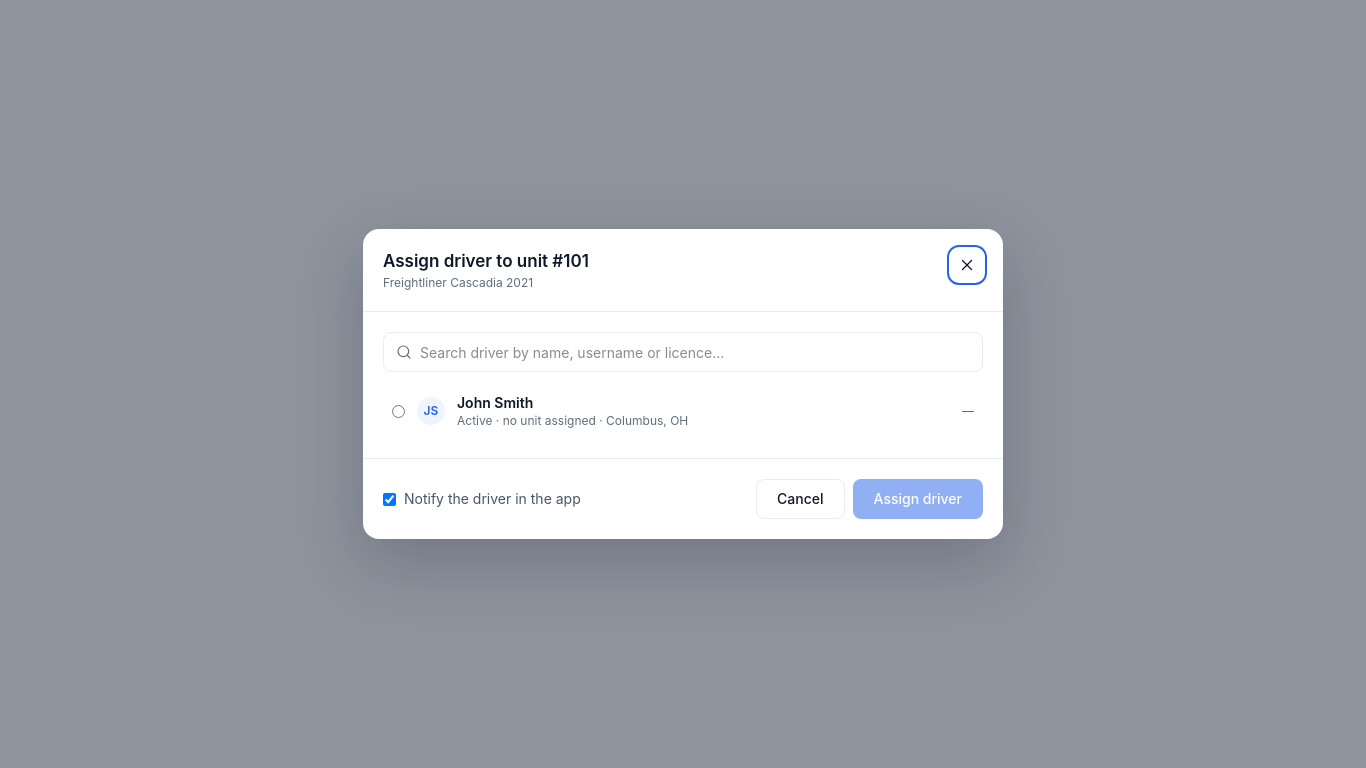
AssignDriverModal — refusals › 404 on a deleted driver says so
Click the text "John Smith" at (495, 402), box [457,394,533,411]
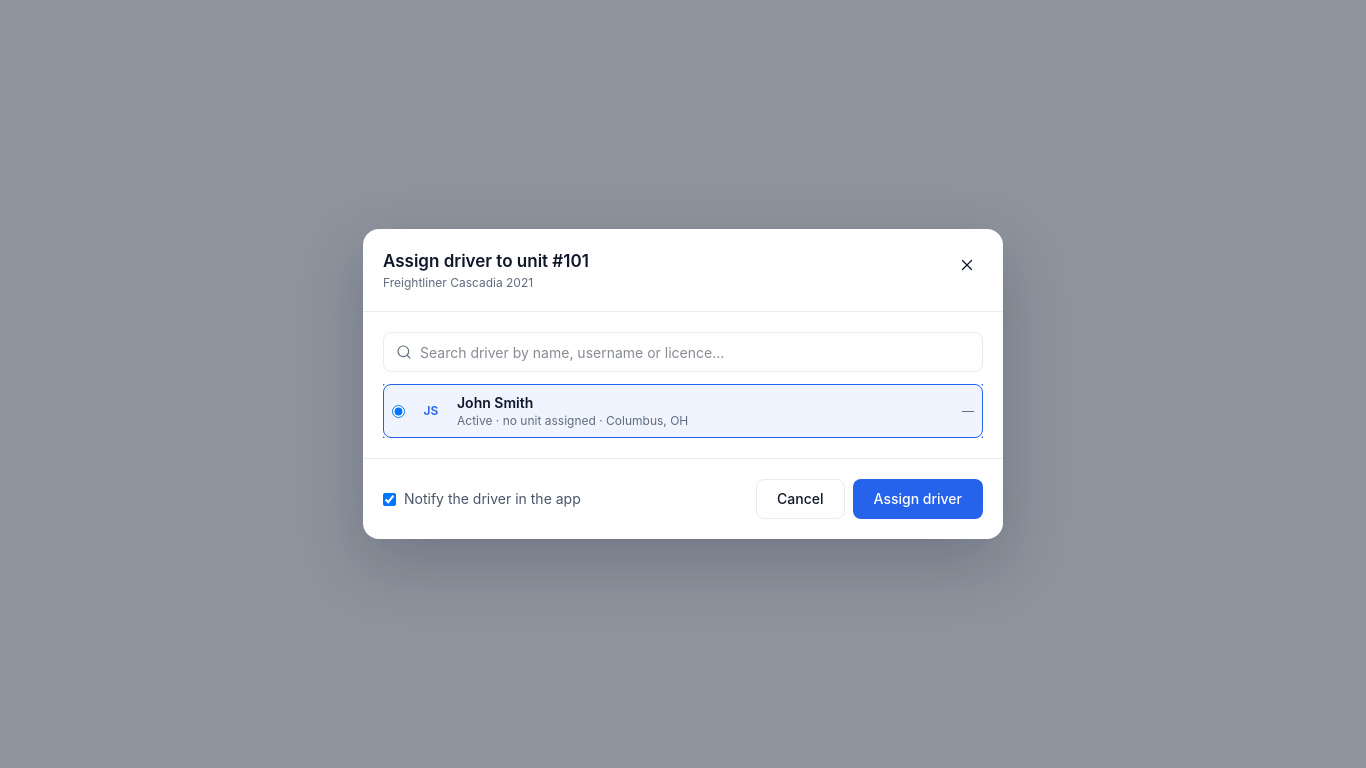
Click the button "Assign driver" at (918, 499), box [853,479,983,519]
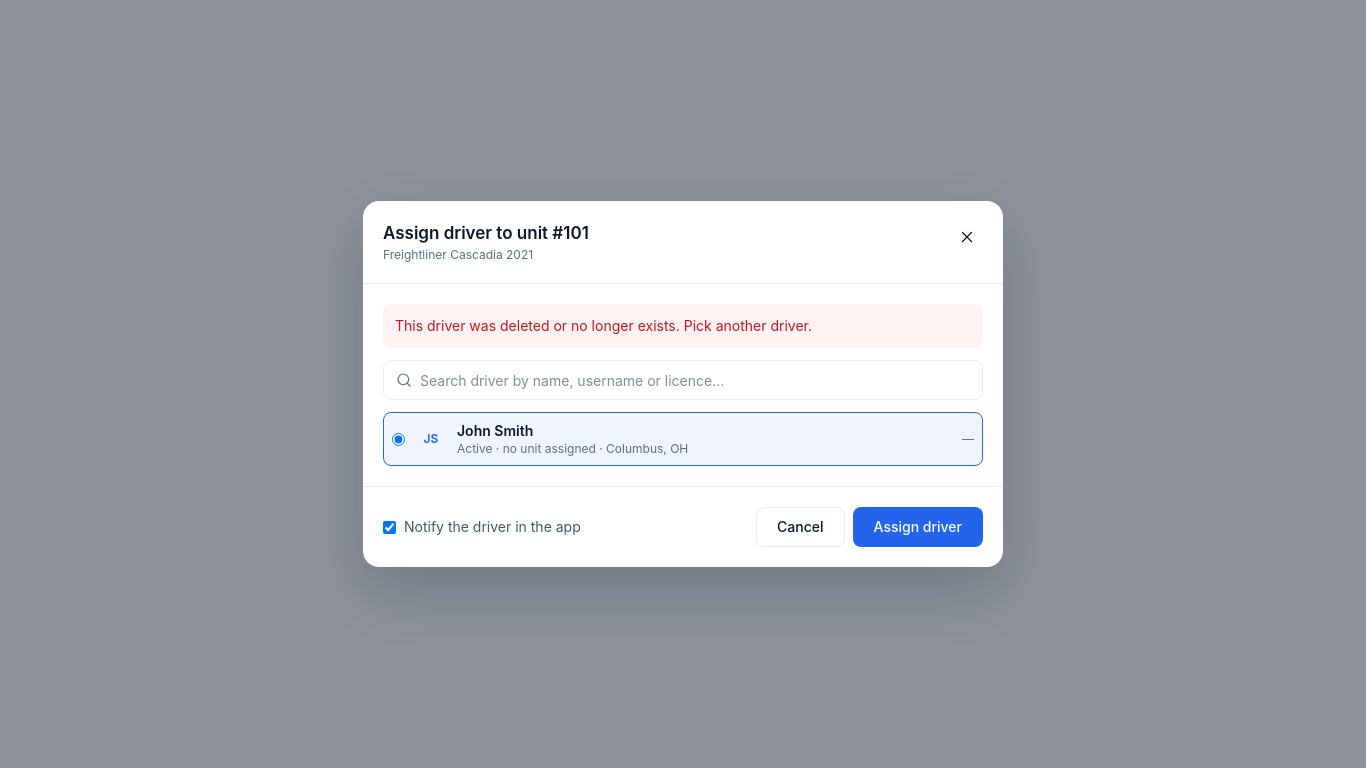
Expected: the message reads "This driver was deleted or no longer exists. Pick another driver.", [395,317,812,334]
